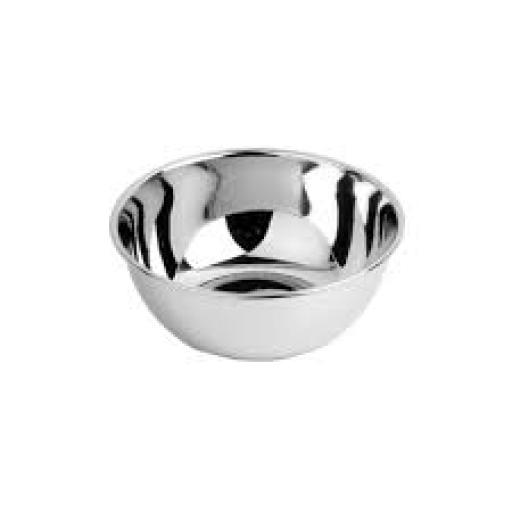Bowl: (109, 146, 407, 364)
